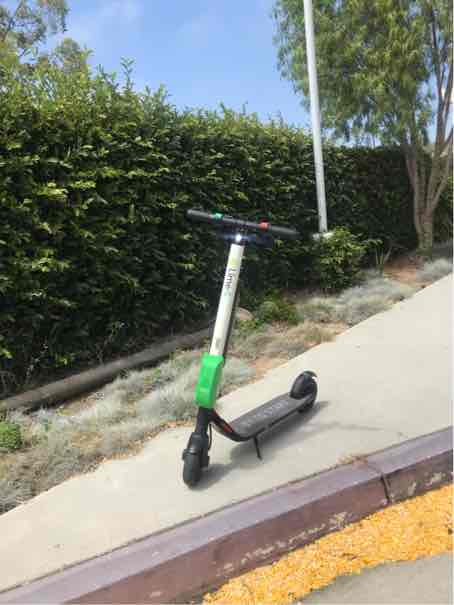scooter: (170, 201, 328, 494)
